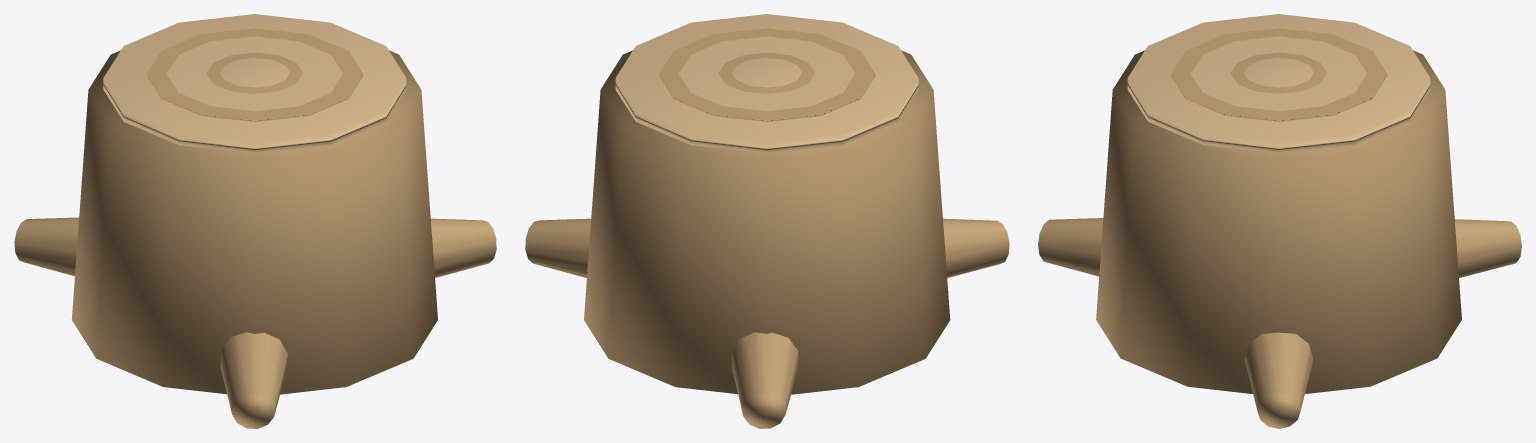
The model's file is stump_v1_short.glb.
The picture shows the model from 3 angles, left to right: view 1: azimuth 30°, elevation 25°; view 2: azimuth 150°, elevation 25°; view 3: azimuth 270°, elevation 25°; orthographic projection.
Visible parts, largest first — view 1: Base_Stump, Base_CutSurface, Base_GrowthRing (×4), Base_Root (×3); view 2: Base_Stump, Base_CutSurface, Base_GrowthRing (×4), Base_Root (×3); view 3: Base_Stump, Base_CutSurface, Base_GrowthRing (×4), Base_Root (×3).
Part boxes in pixels (box(x1,y1,x2,y2)): Base_Stump: box(71, 50, 437, 394); Base_CutSurface: box(103, 14, 406, 153); Base_GrowthRing (×4): box(146, 28, 362, 121); Base_Root (×3): box(14, 217, 496, 428); Base_Stump: box(584, 50, 950, 394); Base_CutSurface: box(615, 14, 918, 153); Base_GrowthRing (×4): box(659, 28, 875, 121); Base_Root (×3): box(525, 218, 1009, 428); Base_Stump: box(1096, 50, 1461, 393); Base_CutSurface: box(1127, 14, 1430, 153); Base_GrowthRing (×4): box(1171, 28, 1386, 121); Base_Root (×3): box(1038, 218, 1521, 428).
Size of the model in its own units: 1.03 by 0.623 by 1.11.
